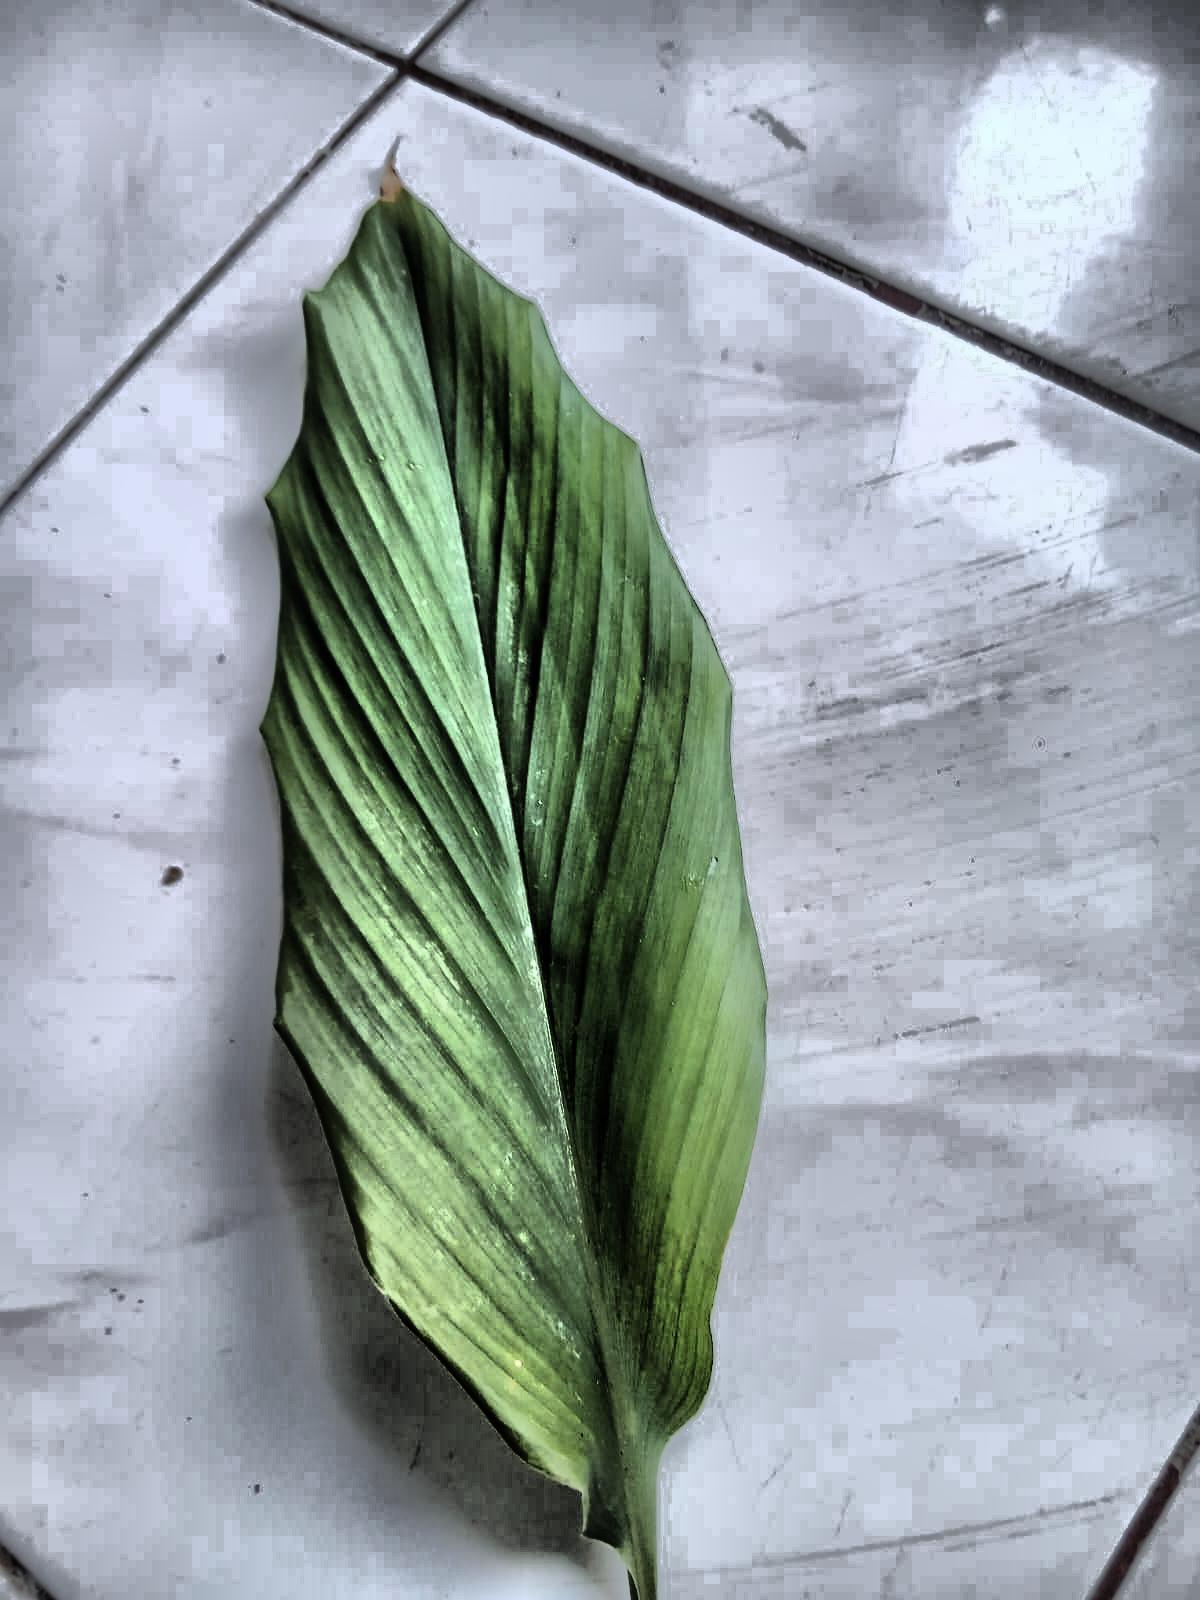daun kunyit: (263, 191, 766, 1599)
